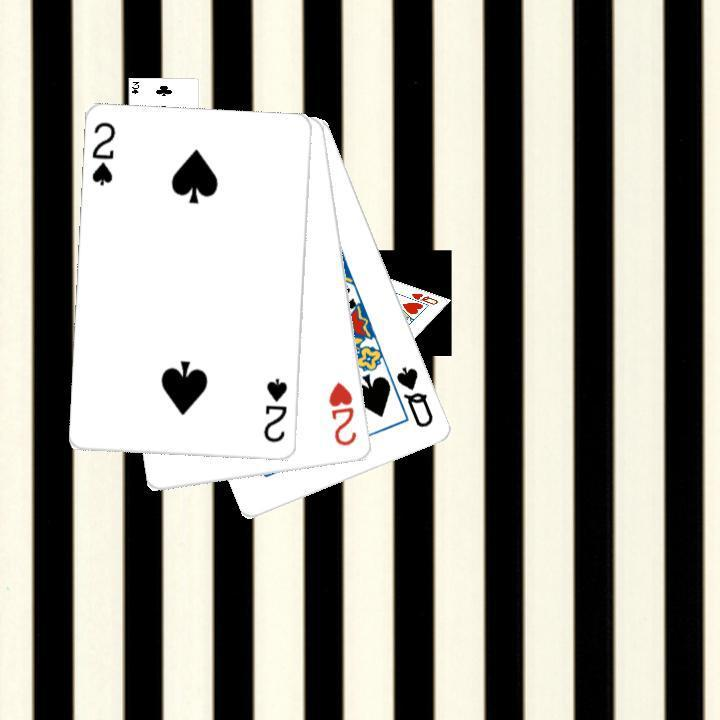2: (325, 378, 360, 449), (259, 374, 290, 445), (87, 118, 118, 189)
Q: (392, 362, 436, 430)
